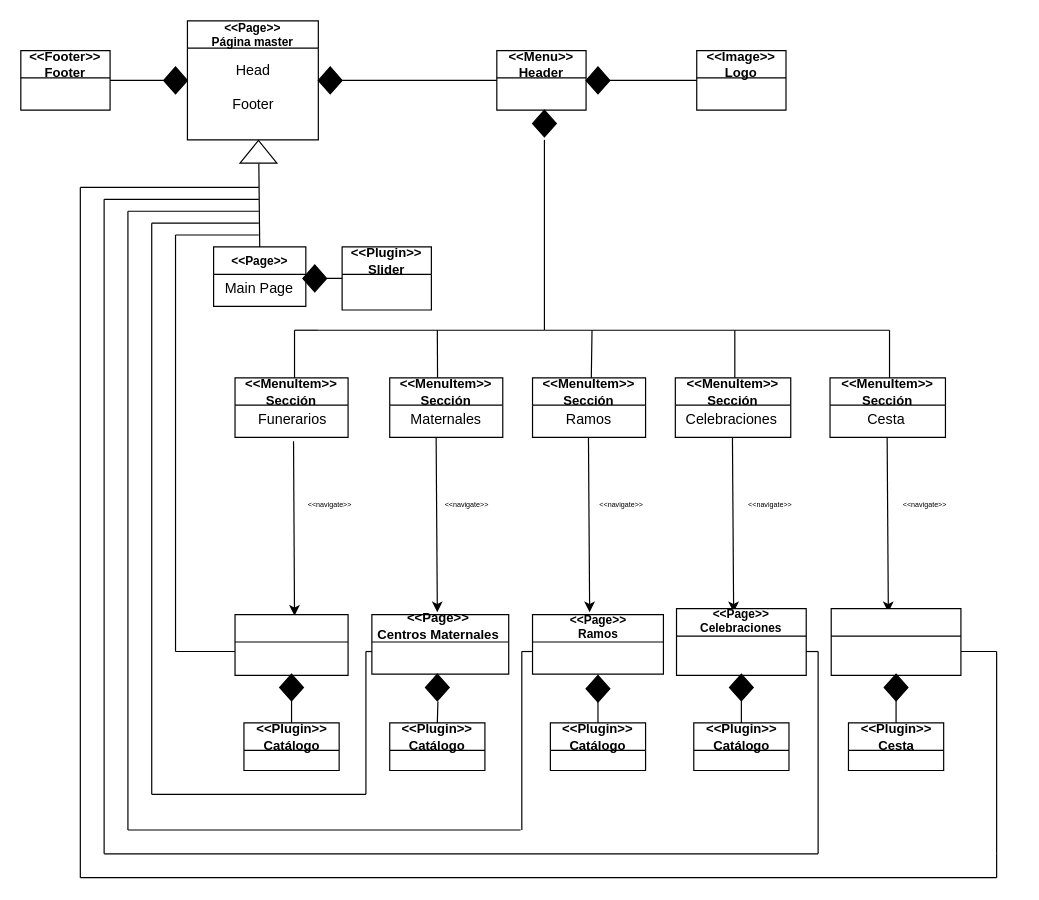
Image size: 1039x900. Some labels were removed from this diagram. The shapes that lost their labels are listed below. From the top down, each one's centre as x and y in pixels, then its label:
point 291,644: < <Page>> Arreglos Funerarios
point 895,641: < <Page>> Cesta
